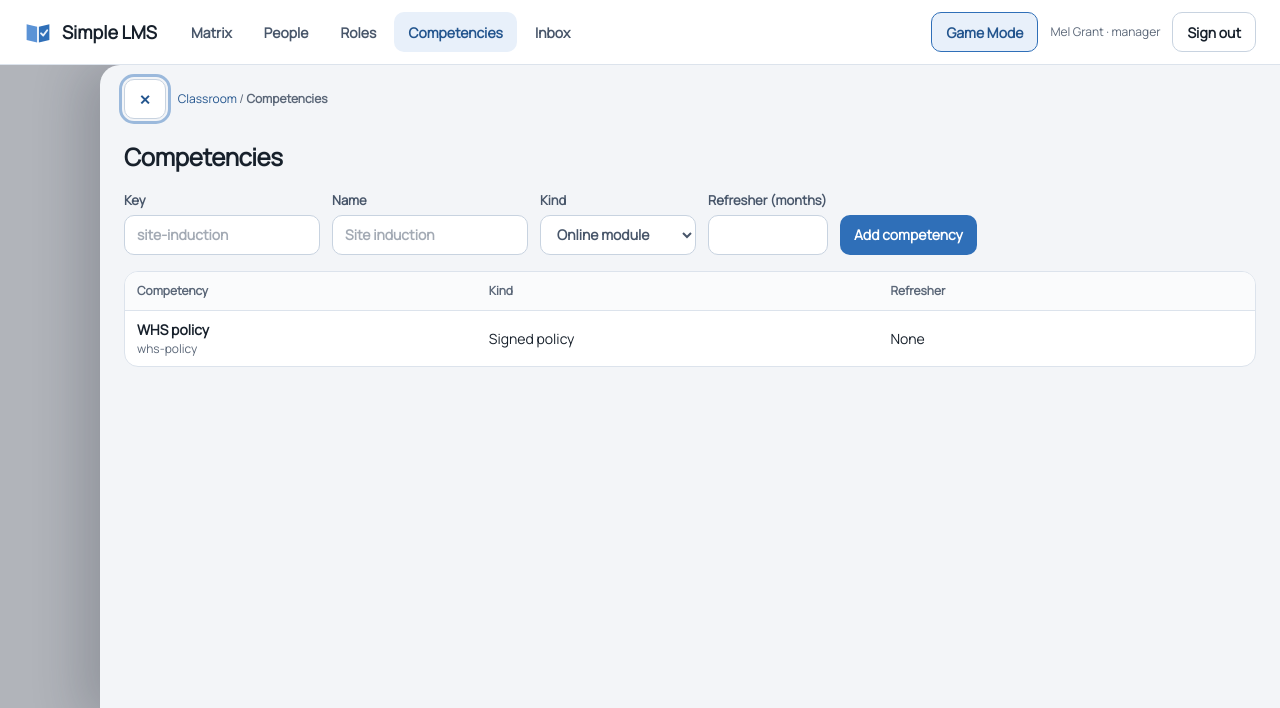
Test: competencies › shows a policy's versions and publishes the next
This screenshot has width=1280, height=708.
Click the button "WHS policy whs-policy" at (173, 338), box [137, 318, 209, 358]
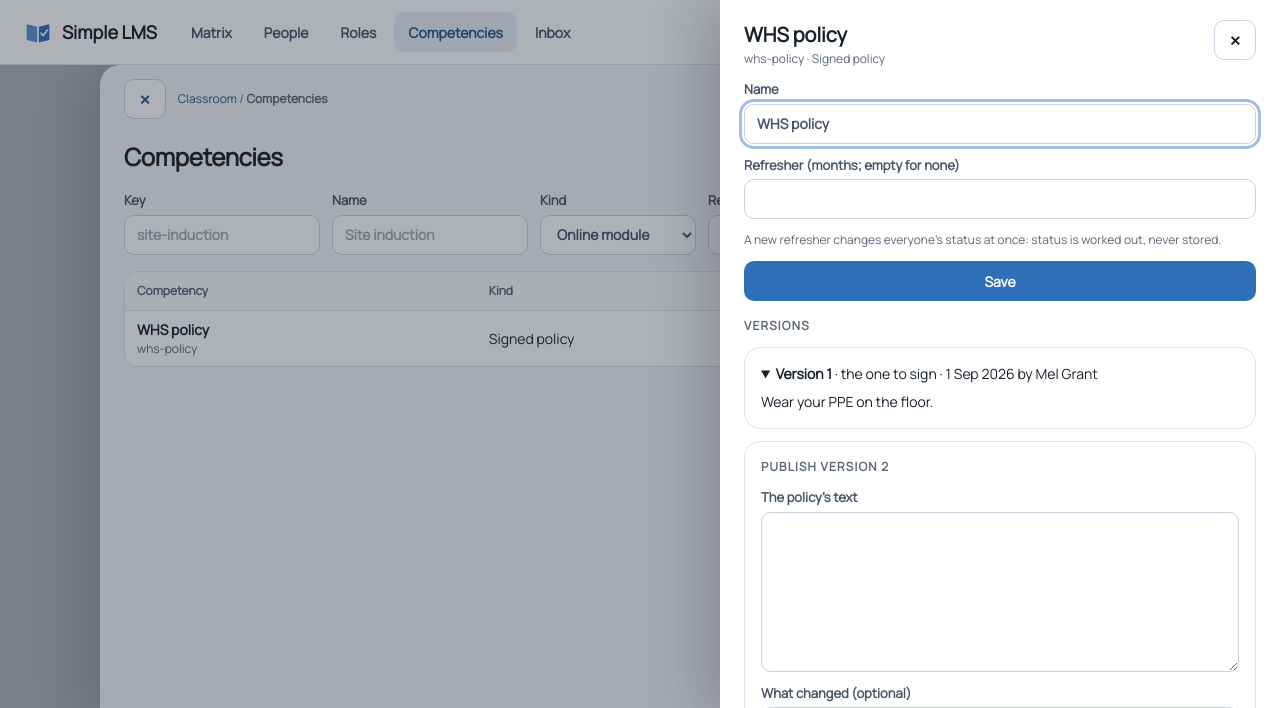
Check: the text "Wear your PPE on the floor." is shown, box [761, 392, 933, 411]
Type "Wear your PPE, and hi-vis in the yard." into the text box labelled "The policy's text" at (1000, 592), box [761, 512, 1239, 672]
(page scrolled)
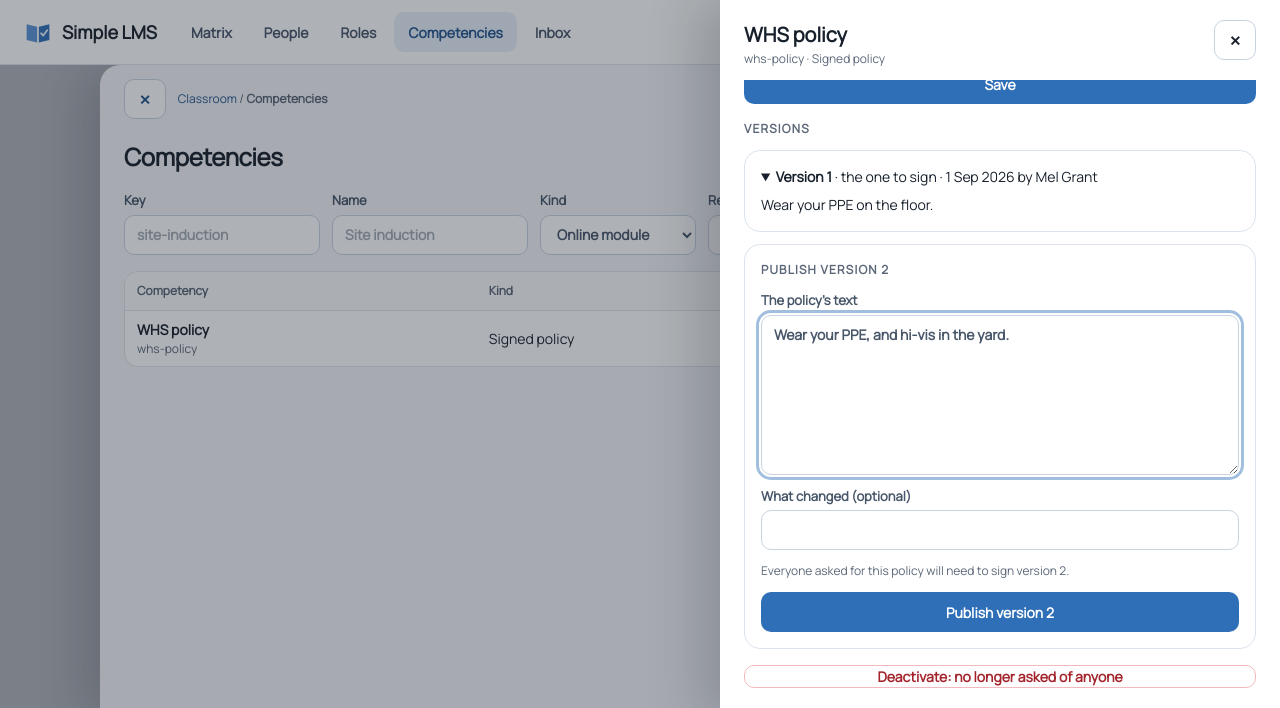
Type "hi-vis in the yard" into the field labelled "What changed (optional)" at (1000, 530), box [761, 510, 1239, 550]
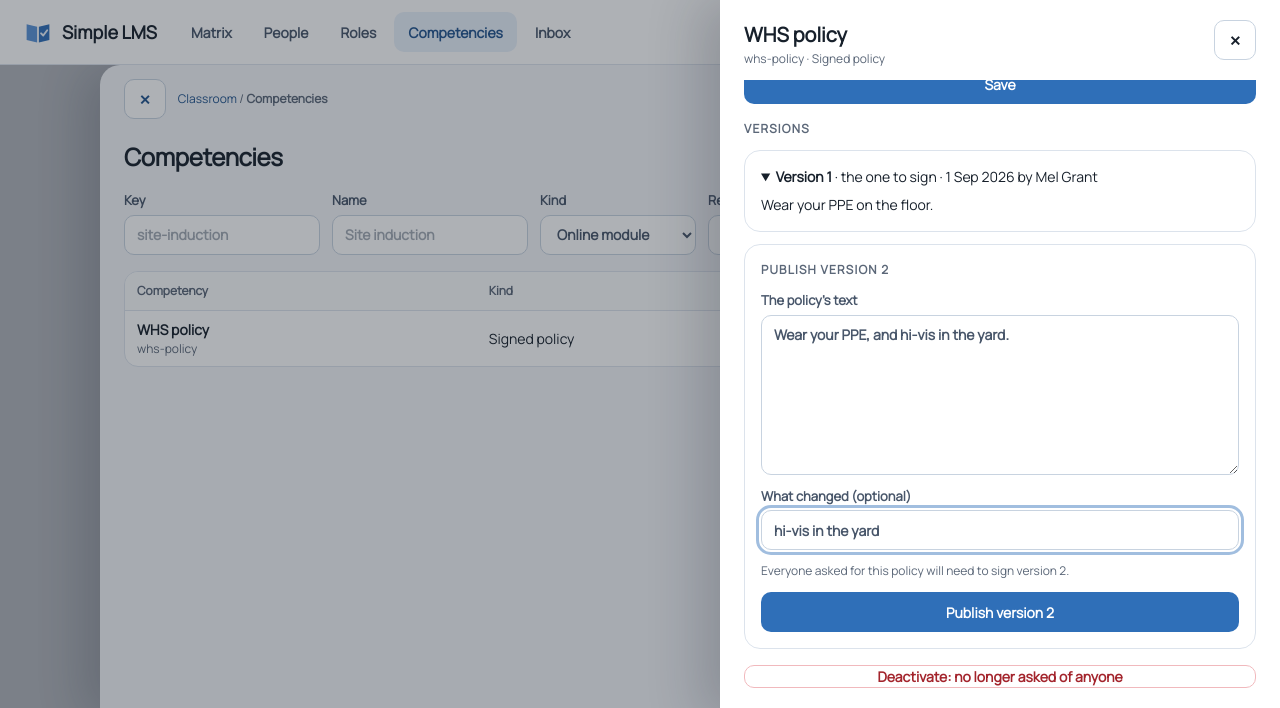
Click the button "Publish version 2" at (1000, 612), box [761, 592, 1239, 632]
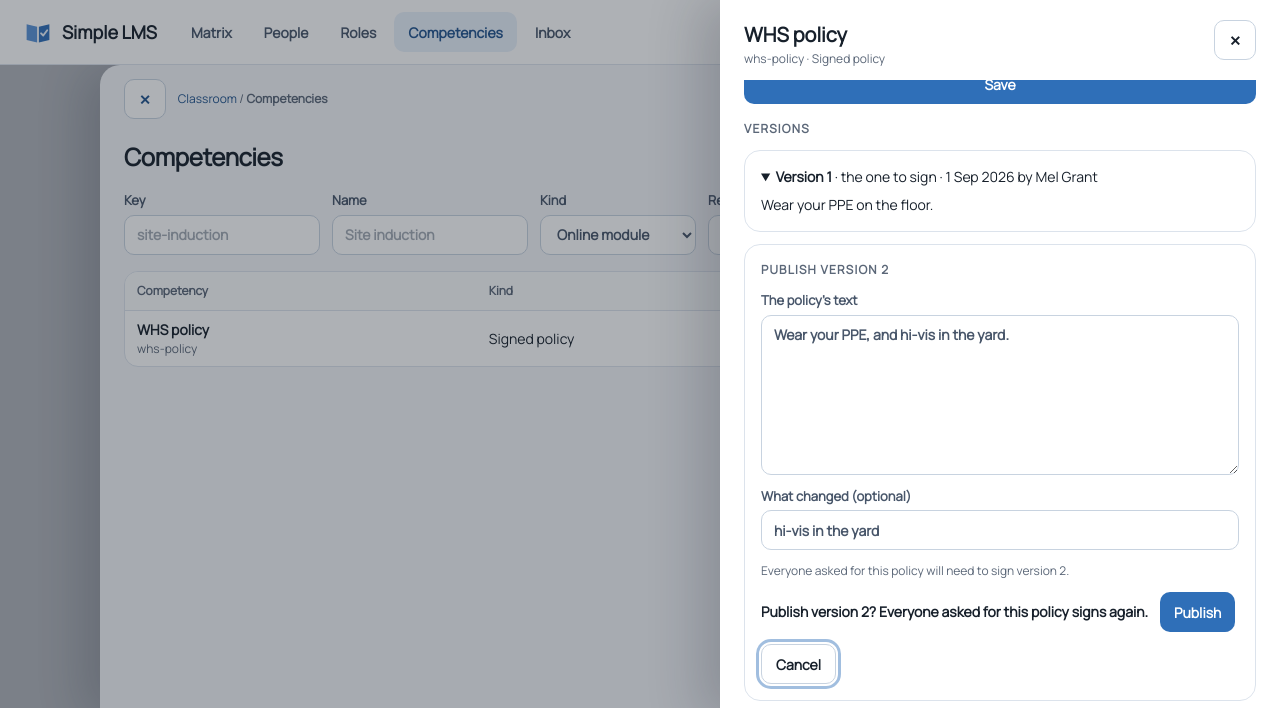
Check: the text "Publish version 2? Everyone asked for this policy signs again." is shown, box [761, 602, 1148, 621]
Click the button "Publish" at (1198, 612), box [1160, 592, 1235, 632]
(page scrolled)
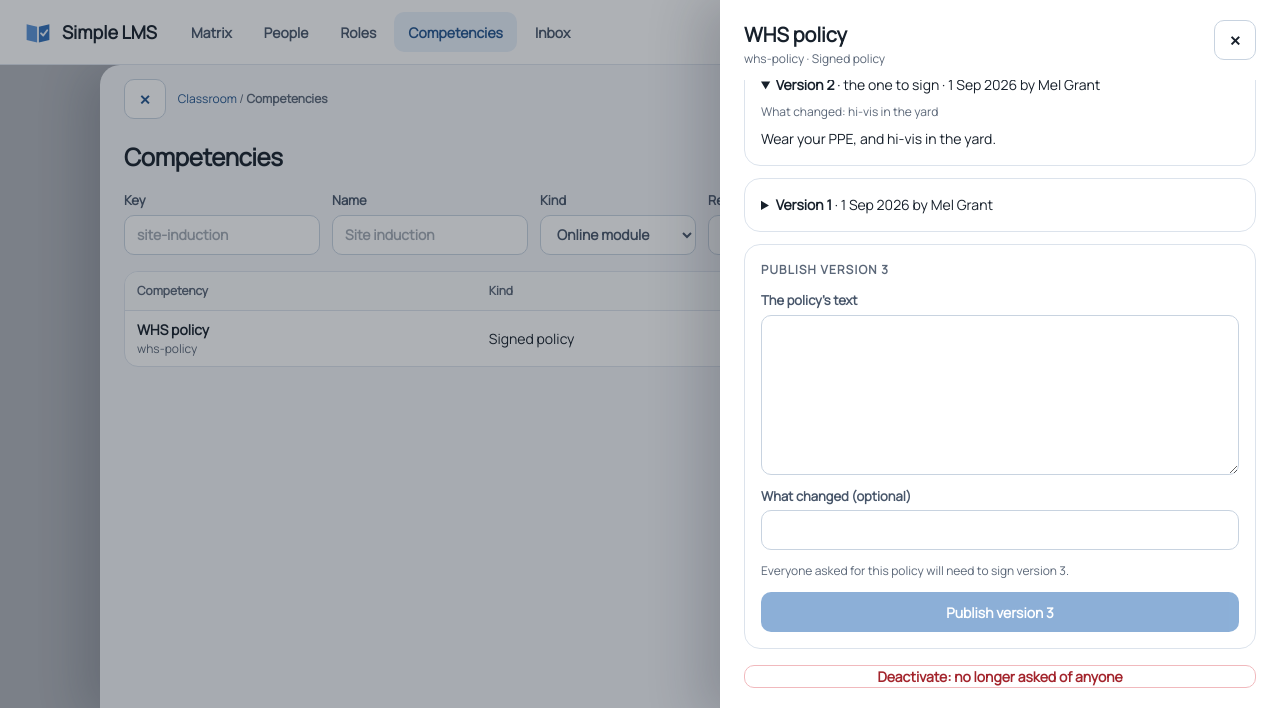
Check: the button "Publish version 3" is shown, box [761, 592, 1239, 632]
